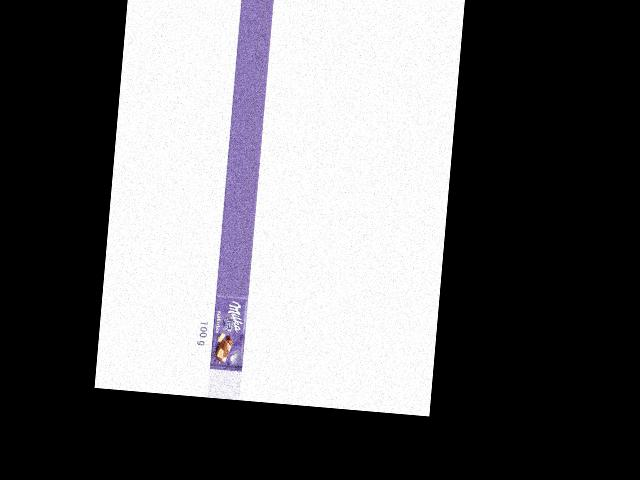chocolate: (204, 291, 249, 372)
